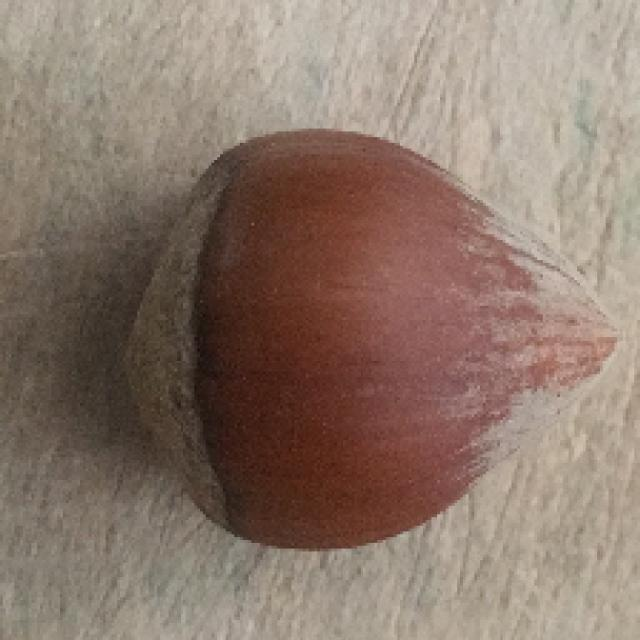QualityHazelnut: (122, 125, 624, 556)
